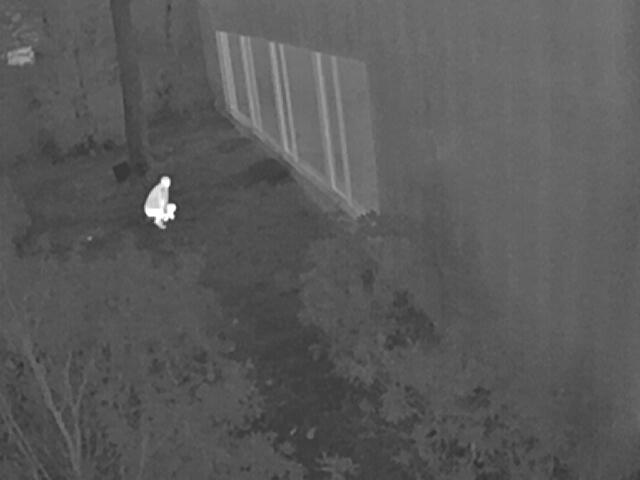person: (143, 175, 174, 228)
